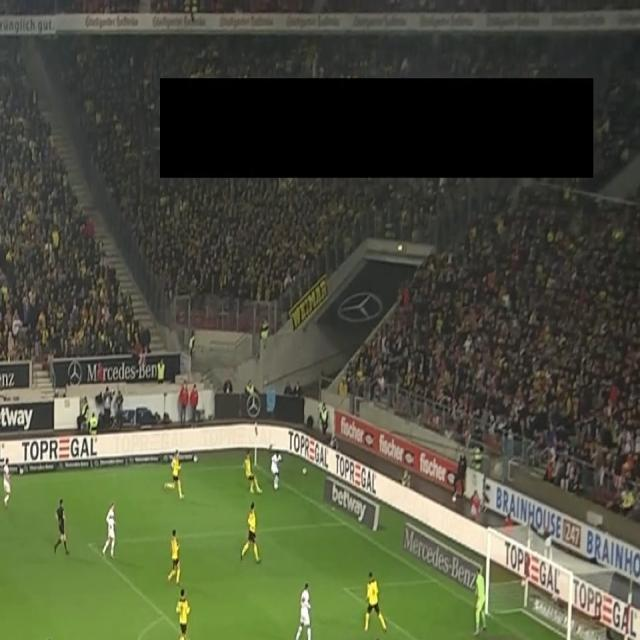ball: (273, 481, 279, 492)
